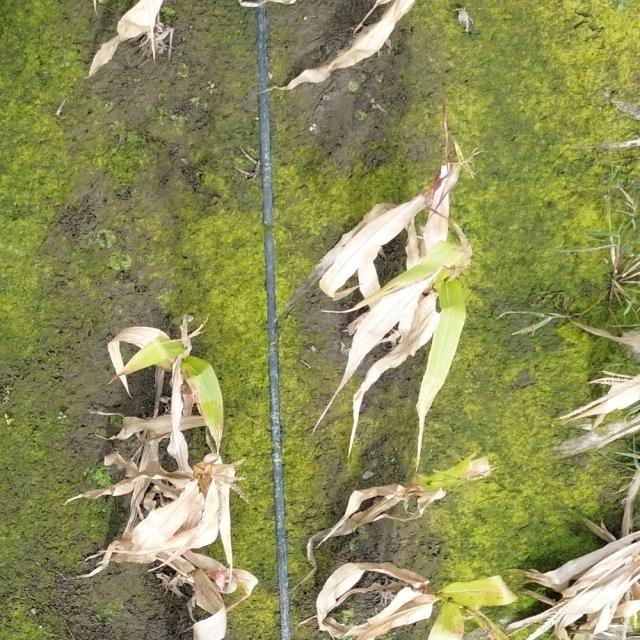gray-leaf-spot: (200, 399, 226, 434)
southern-leaf-blight: (462, 587, 506, 601), (446, 610, 462, 640)
